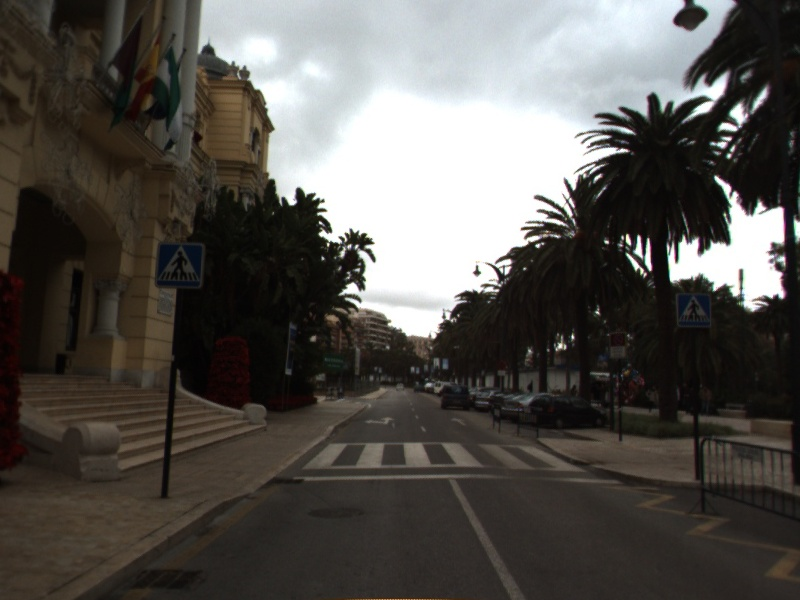STRAIGHT: (449, 415, 468, 427)
STRAIGHT_LEFT: (362, 415, 397, 426)
